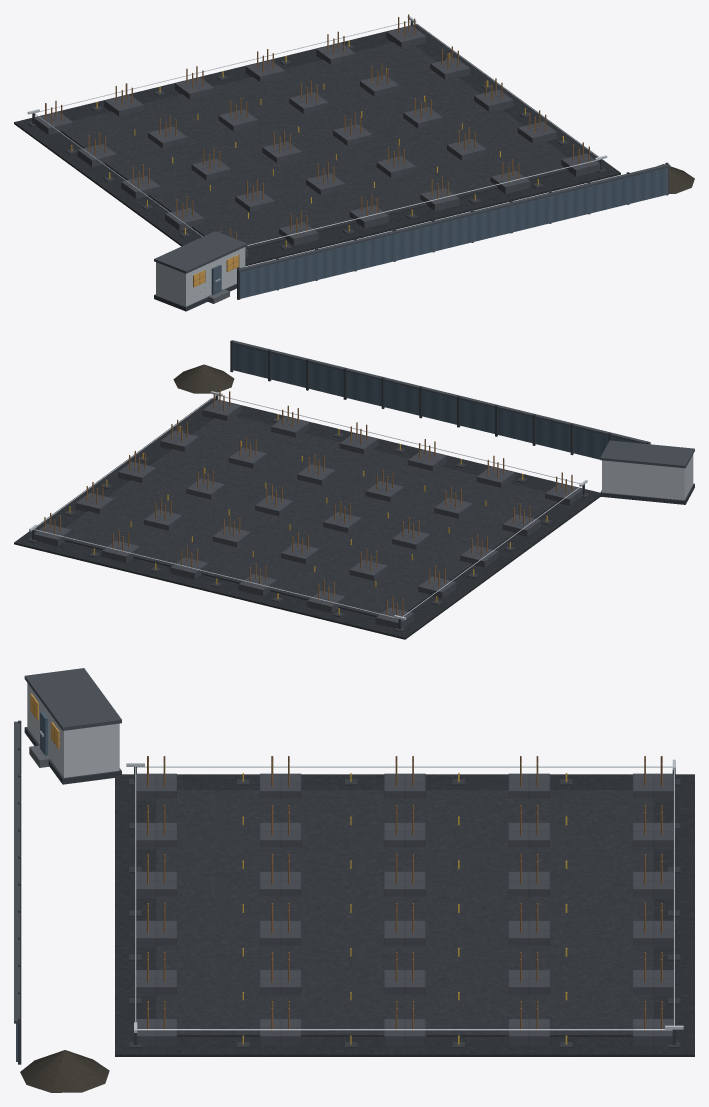
Rendered from trg-6-site.glb.
The picture shows the model from 3 angles, top to bottom: view 1: azimuth 30°, elevation 25°; view 2: azimuth 150°, elevation 25°; view 3: azimuth 270°, elevation 25°; orthographic projection. The views are drawn at different scales.
Size of the model in its own units: 42 by 3.1 by 32.87.
Materials: 17 (9 with a texture image).
